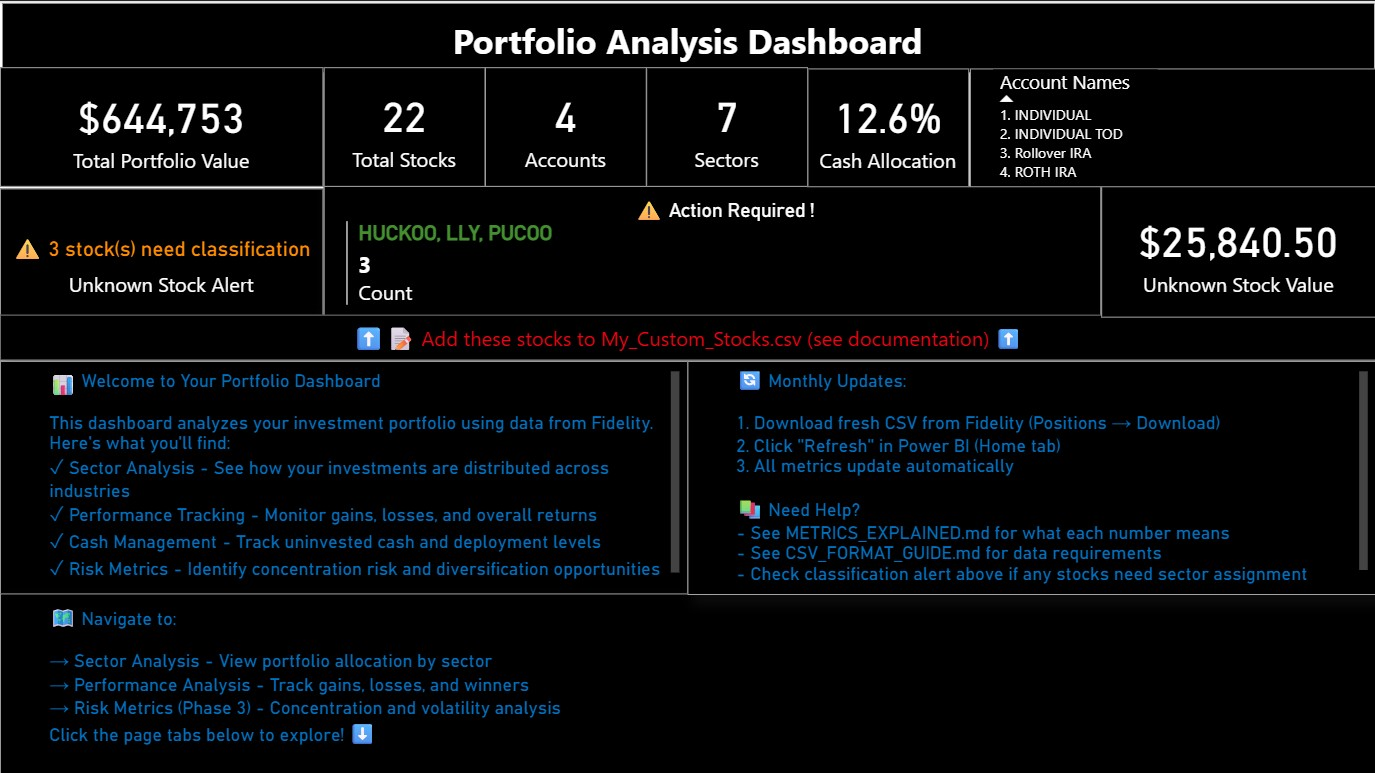

The dashboard page shown, as its layout file describes it:
{"tool":"powerbi","page":{"name":"Welcome","canvas":[1280,720],"ordinal":0},"visuals":[{"type":"textbox","box":[0,0,1280.5,68.5],"z":0},{"type":"card","fields":{"Values":["All_Measures_Tbl.Total_Portfolio_Value"]},"box":[0,62.2,300.7,111],"z":1000},{"type":"card","fields":{"Values":["All_Measures_Tbl.Unknown_Stocks_Alert"]},"box":[0,173.9,300.7,118.1],"z":2000},{"type":"tableEx","title":"⚠️ Action Required !","fields":{"Values":["All_Measures_Tbl.Unknown_Stocks_Count","All_Measures_Tbl.Unknown_Stocks_List"]},"box":[300.7,171.6,723.3,120.4],"z":3000},{"type":"textbox","box":[0,292,1279.8,42.5],"z":4000},{"type":"card","fields":{"Values":["All_Measures_Tbl.Number_Of_Stocks"]},"box":[300.7,62.2,150.3,111],"z":5000},{"type":"card","fields":{"Values":["All_Measures_Tbl.Number_Of_Accounts"]},"box":[451,61.8,150.3,111.5],"z":6000},{"type":"card","fields":{"Values":["All_Measures_Tbl.Number_Of_Sectors"]},"box":[601.3,61.8,150.3,111.5],"z":7000},{"type":"card","fields":{"Values":["All_Measures_Tbl.Cash_Percent"]},"box":[751.6,63,150.3,110.2],"z":8000},{"type":"card","fields":{"Values":["All_Measures_Tbl.Unknown_Stocks_Value"]},"box":[1024,171.6,255.8,120.4],"z":9000},{"type":"tableEx","title":"Account Names","fields":{"Values":["All_Measures_Tbl.Account_Names_Numbered"]},"box":[902,63,377.8,110.2],"z":10000},{"type":"textbox","box":[0,334.5,639.9,242.4],"z":11000},{"type":"textbox","box":[0,576.9,640.7,143.2],"z":12000},{"type":"textbox","box":[639.9,334.5,640.7,385.7],"z":13000}]}

Visuals, with their boxes in screenshot pixels (x1, y1, x2, y2), scaled from the page's 1280x720 canvas onto the 1375x773 screenshot:
textbox: [0,0,1374,74]
card - All_Measures_Tbl.Total_Portfolio_Value: [0,67,323,186]
card - All_Measures_Tbl.Unknown_Stocks_Alert: [0,187,323,313]
"⚠️ Action Required !" tableEx: [323,184,1100,313]
textbox: [0,313,1374,359]
card - All_Measures_Tbl.Number_Of_Stocks: [323,67,484,186]
card - All_Measures_Tbl.Number_Of_Accounts: [484,66,646,186]
card - All_Measures_Tbl.Number_Of_Sectors: [646,66,807,186]
card - All_Measures_Tbl.Cash_Percent: [807,68,969,186]
card - All_Measures_Tbl.Unknown_Stocks_Value: [1100,184,1374,313]
"Account Names" tableEx: [969,68,1374,186]
textbox: [0,359,687,619]
textbox: [0,619,688,772]
textbox: [687,359,1374,772]
